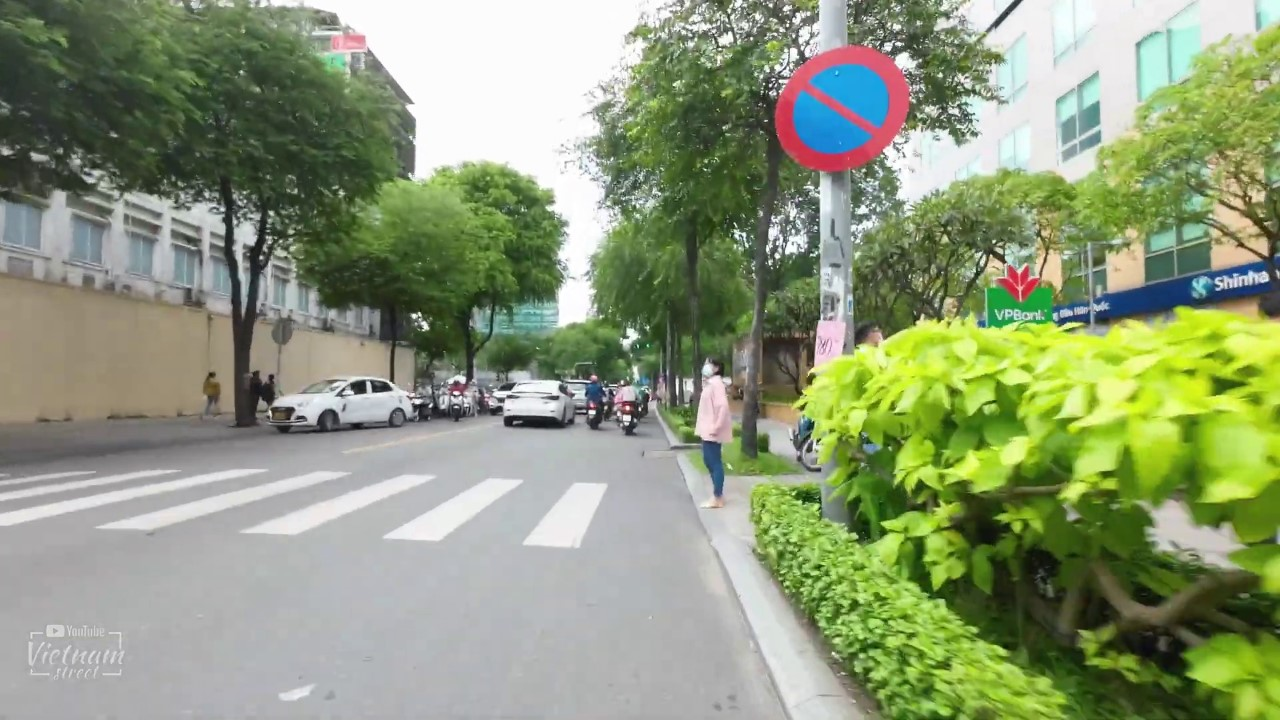cam_do_xe: (773, 46, 908, 173)
